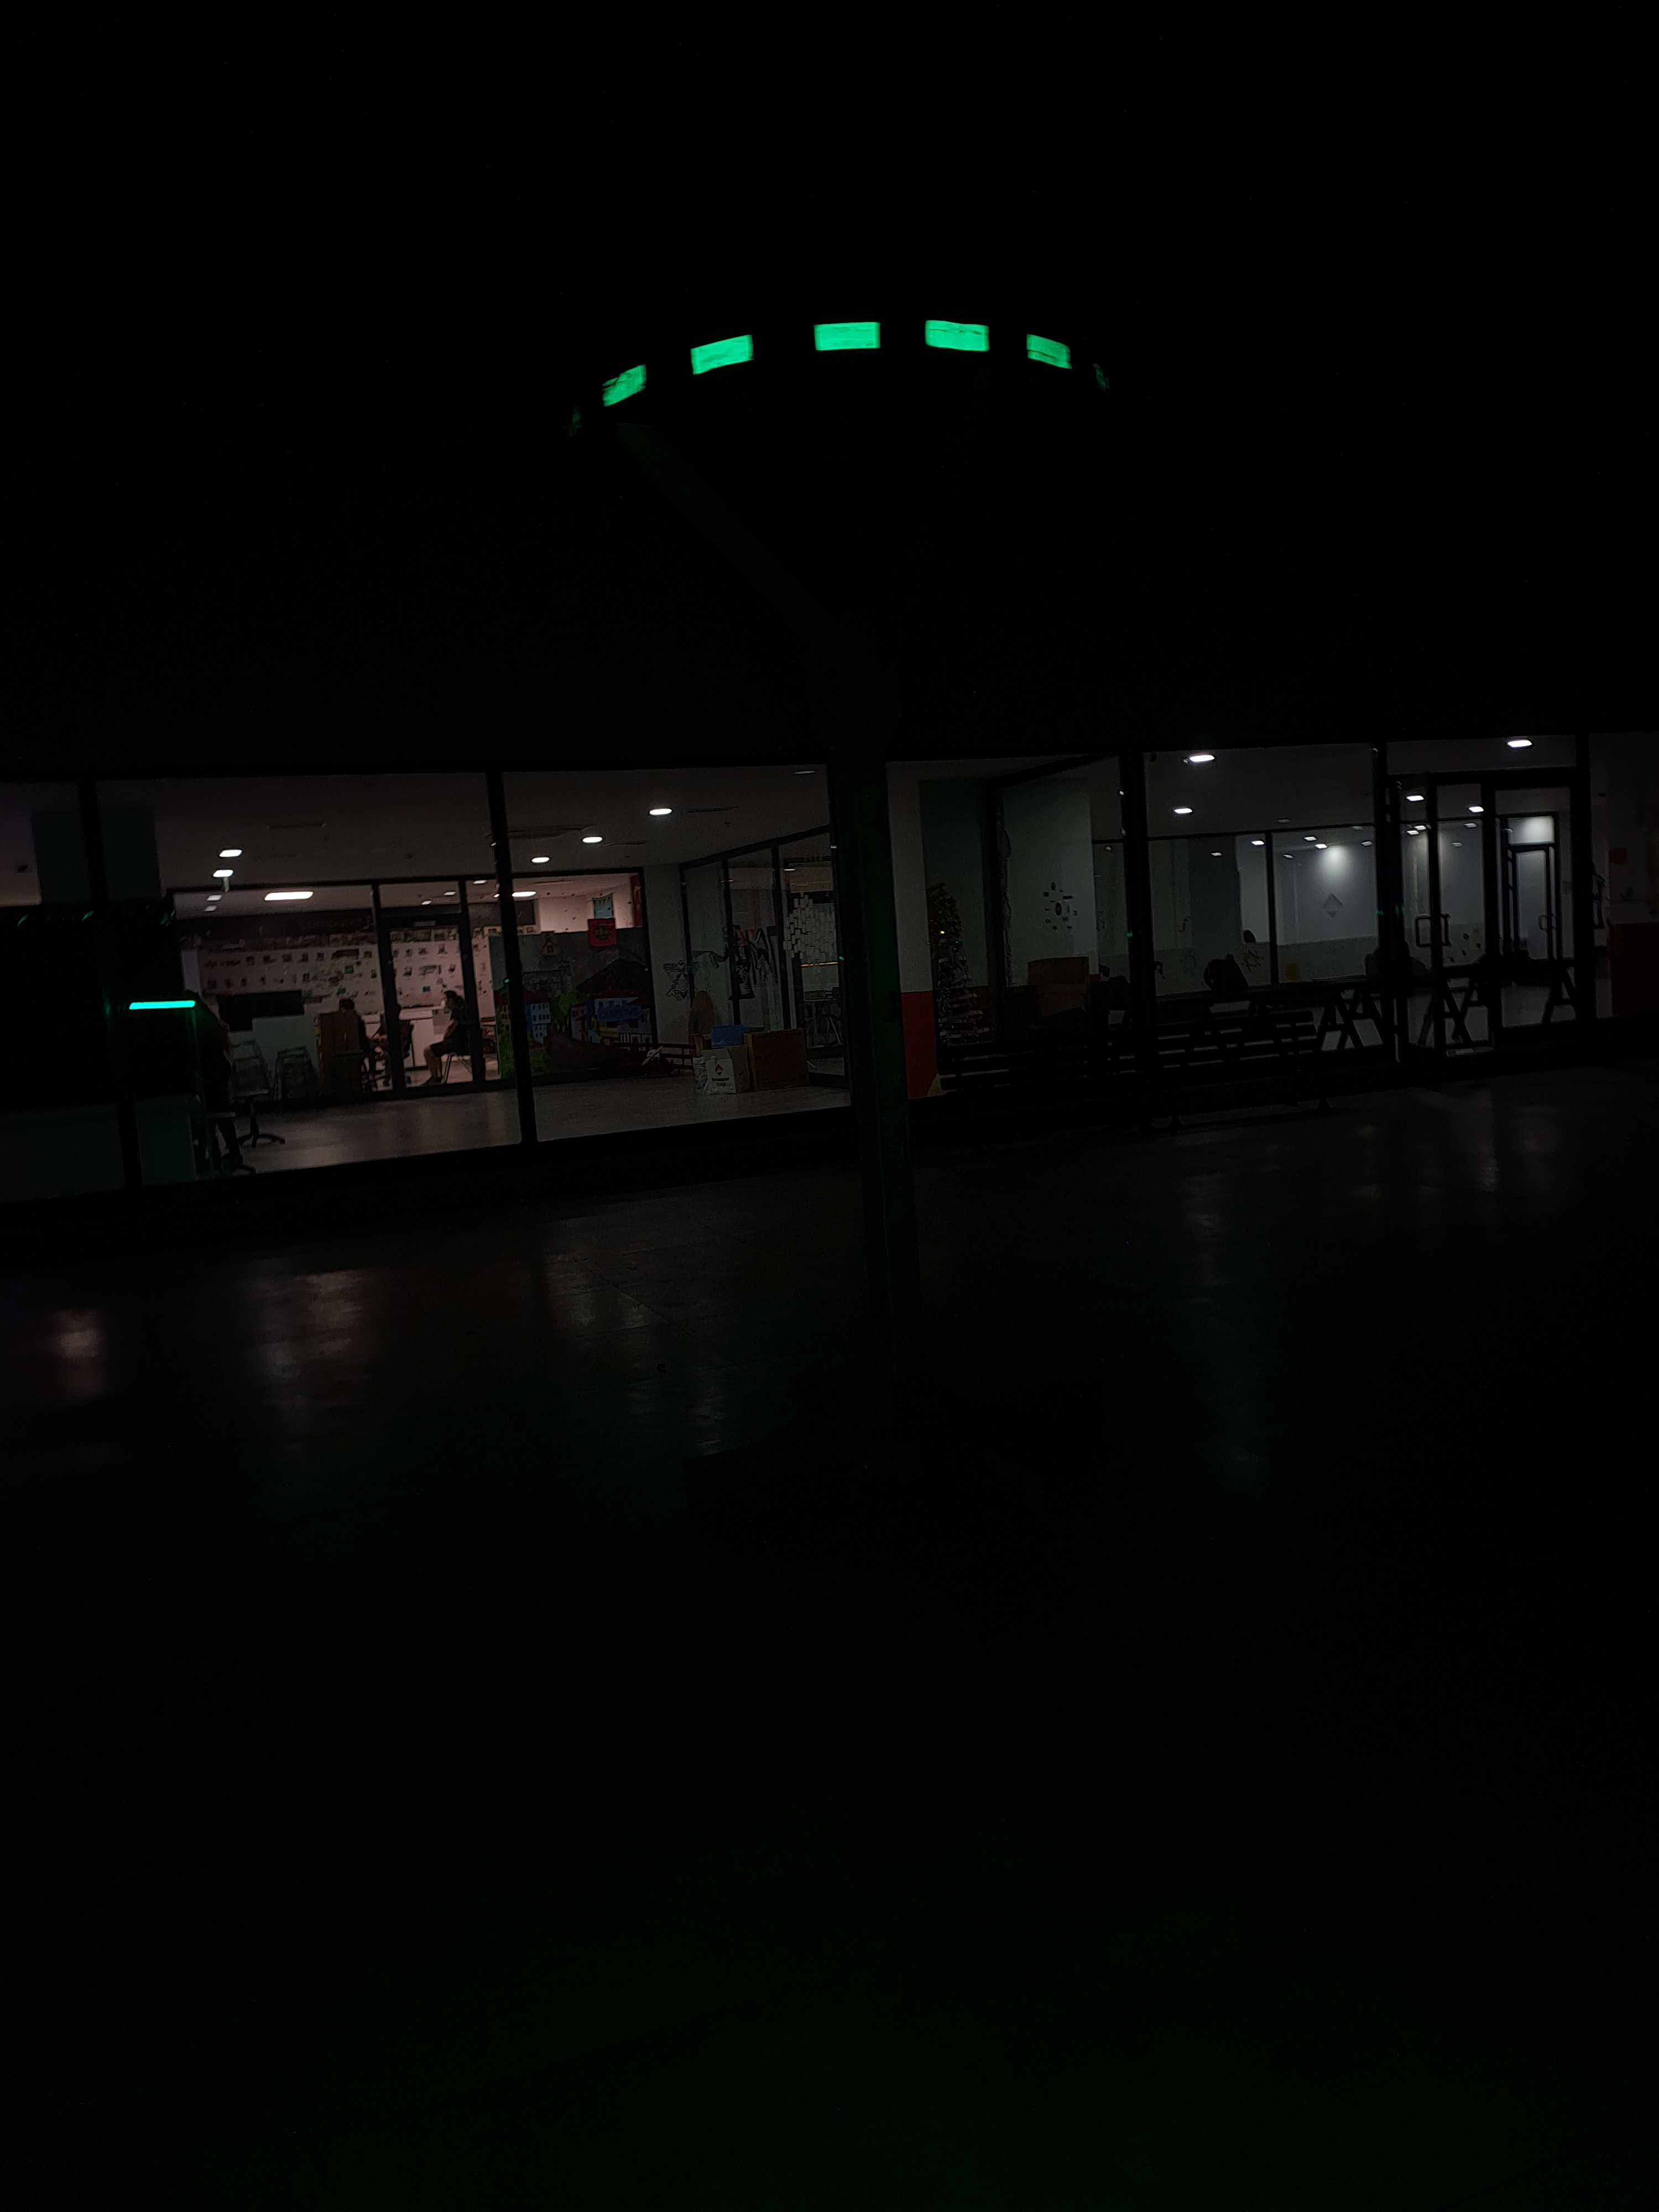hoop: (591, 307, 1080, 416)
